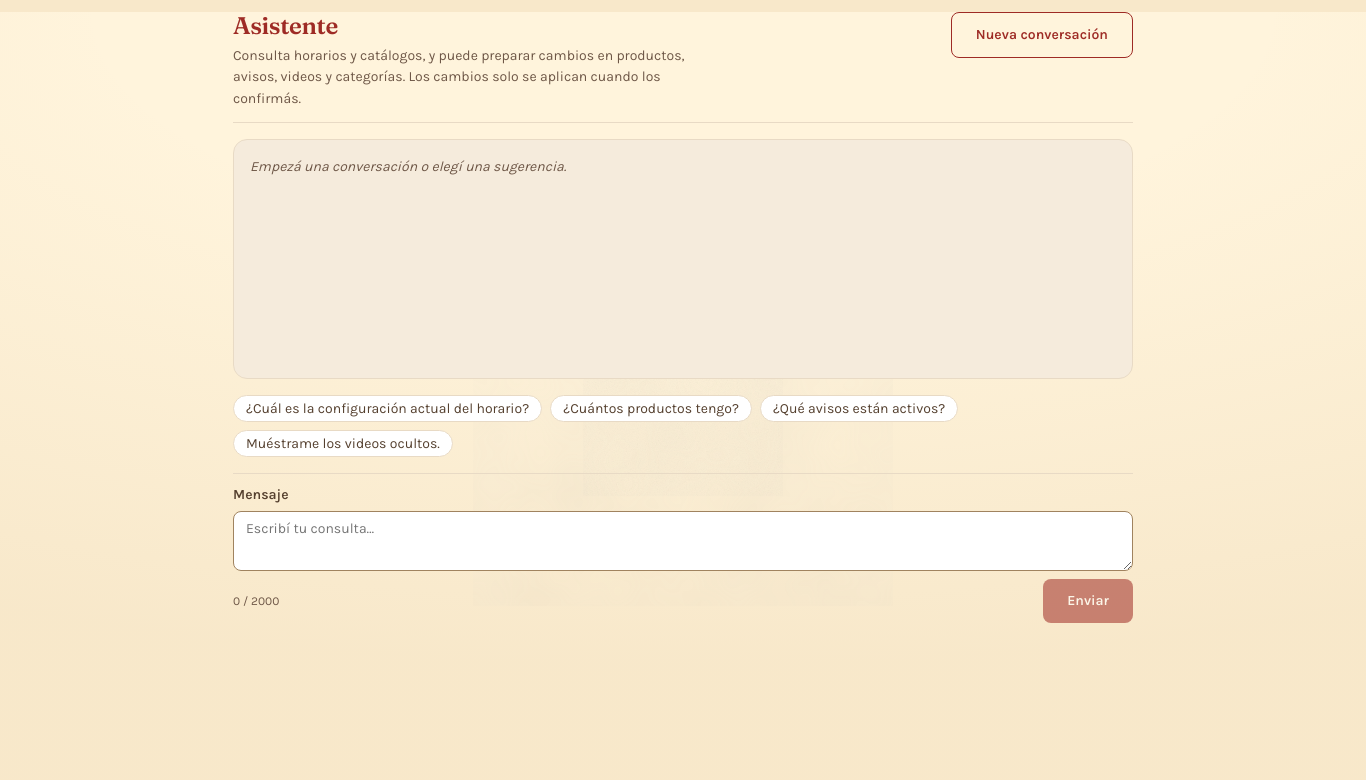
Test: AssistantChat › bloquea el doble envío en el mismo tick
This screenshot has width=1366, height=780.
Check: the heading "Asistente" is shown, box [233,11,338,40]
Type "Hola" into the text box labelled "Mensaje" at point(683, 541), box [233,511,1133,571]
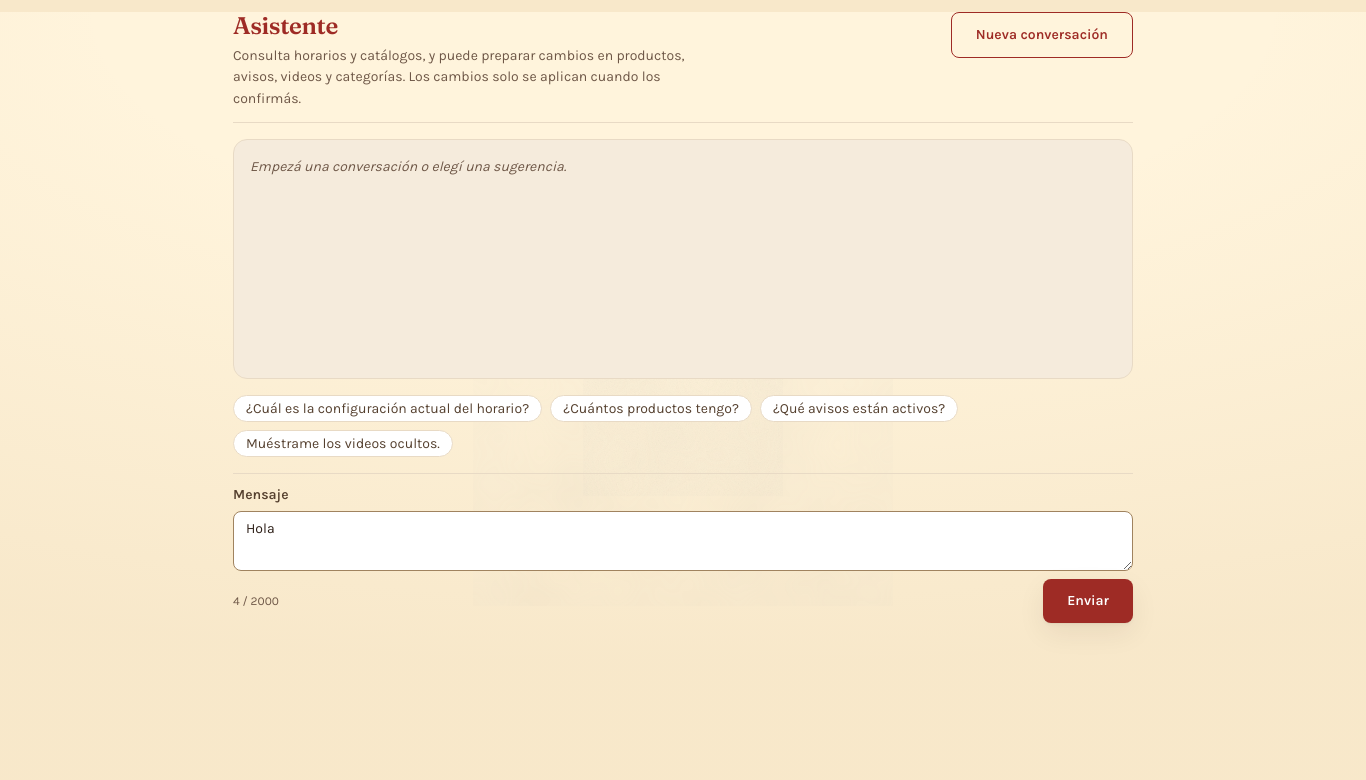
Click the button "Enviar" at point(1088, 601), box [1043,579,1133,623]
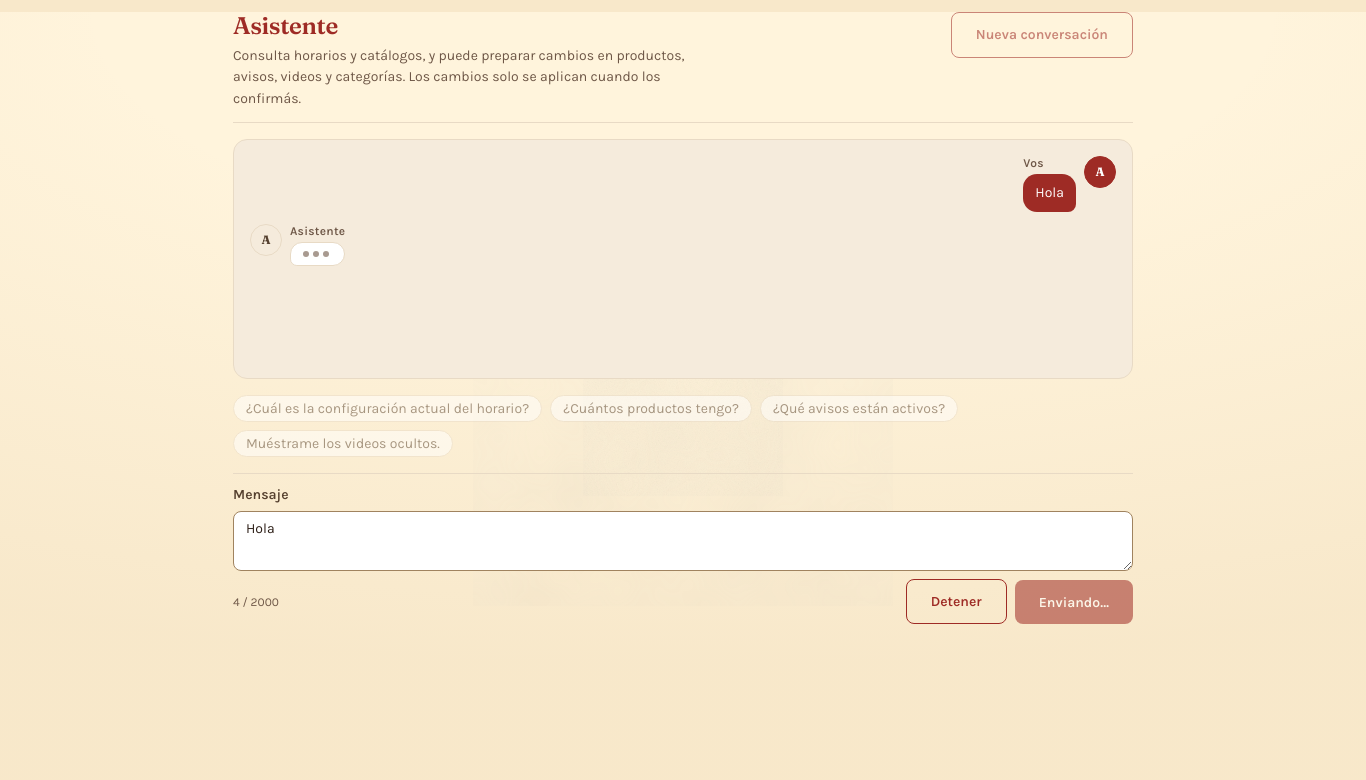
Click the button named "Enviar" at point(1074, 602), box [1015,580,1133,624]
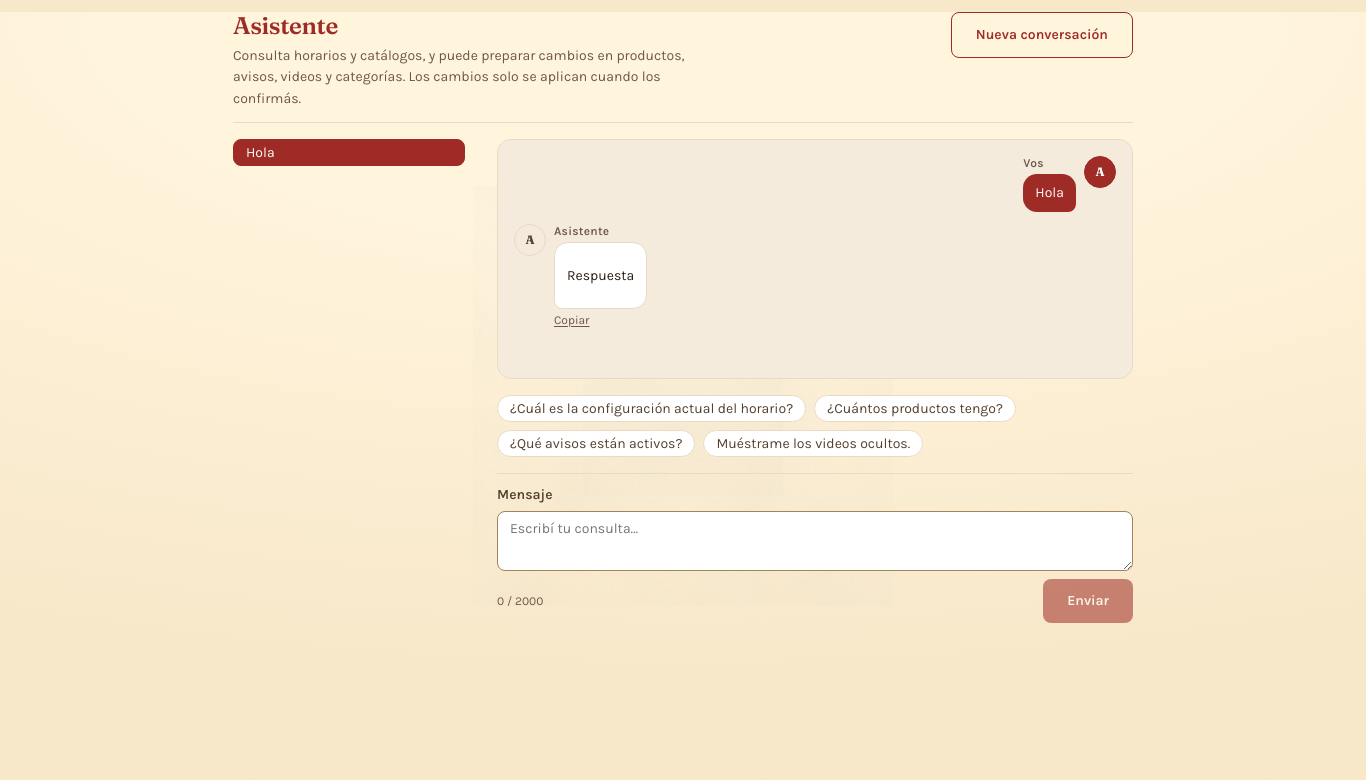
Check: the text "Respuesta" is shown, box [567,264,634,286]
